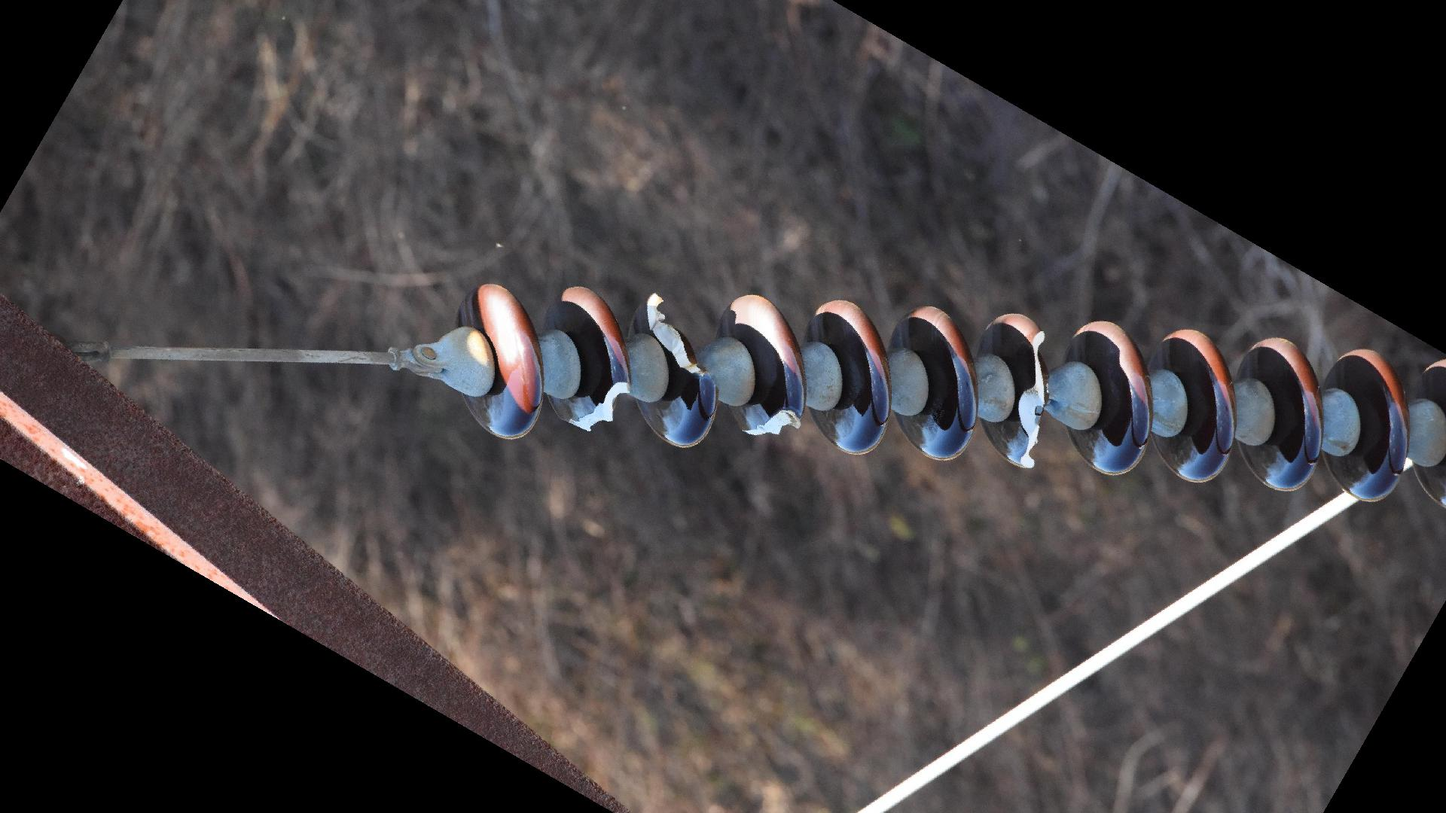insulator: (456, 276, 1446, 518)
insulator_breakage: (637, 288, 718, 388), (1009, 319, 1057, 476), (554, 373, 639, 443), (733, 403, 809, 443)
